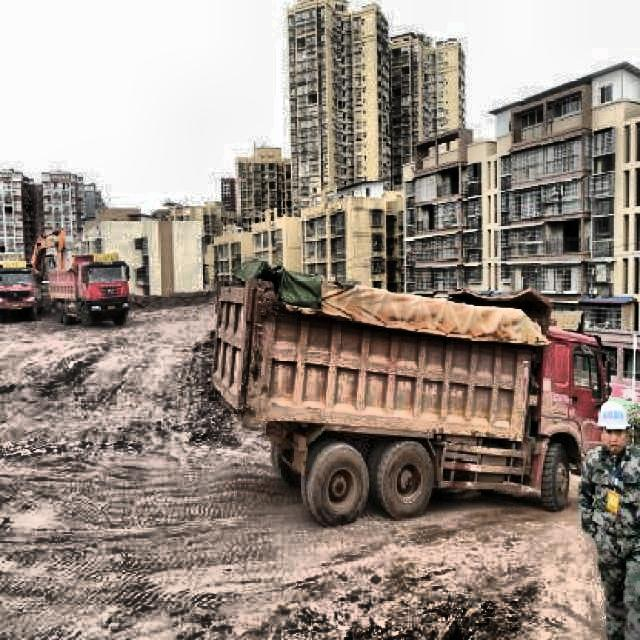dump_truck: (207, 274, 618, 530), (49, 258, 129, 324), (0, 259, 35, 318)
excavator: (30, 228, 66, 277)
